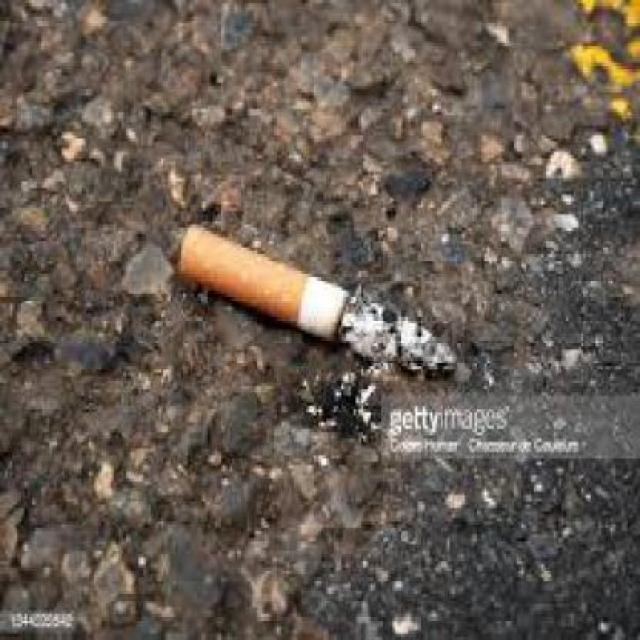cigarette: (175, 184, 374, 353)
